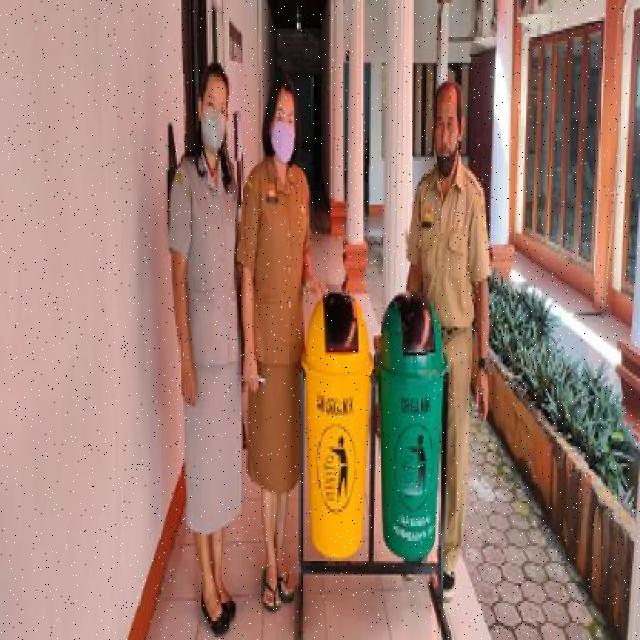garbage container: (298, 284, 376, 574), (374, 285, 452, 569)
